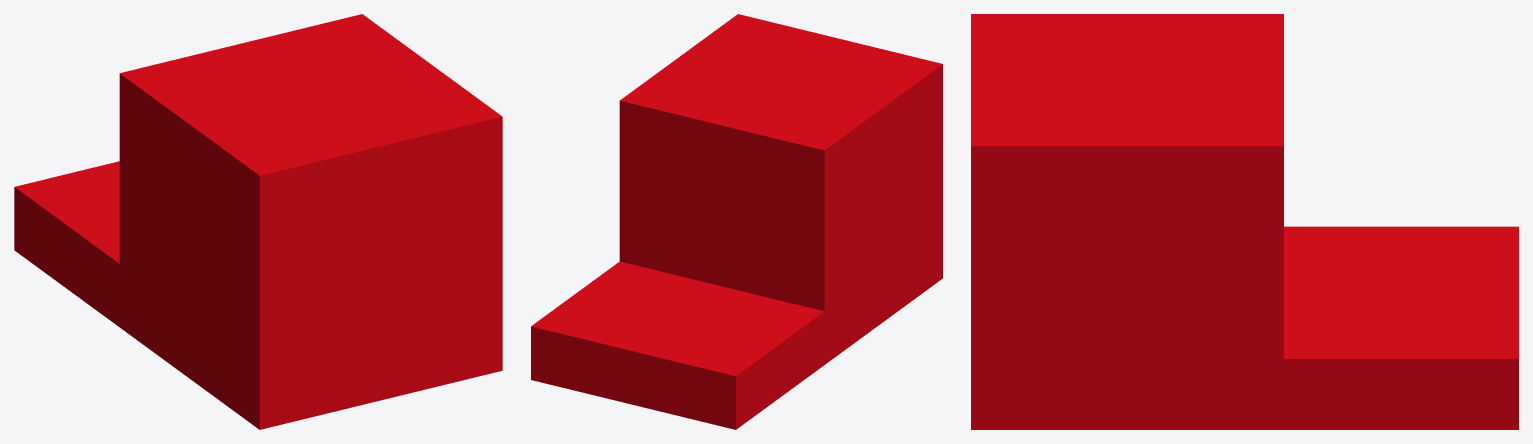
The model's file is MagaKapp.fbx.
3 views of the same model, side by side, from view 1: azimuth 30°, elevation 25°; view 2: azimuth 150°, elevation 25°; view 3: azimuth 270°, elevation 25° (orthographic). The views are drawn at different scales.
Parts seen in each view (by area): view 1: Cube; view 2: Cube; view 3: Cube.
Boxes of the visible parts, x1,y1,x2,y2 form: Cube: (14,14,502,429); Cube: (531,14,942,429); Cube: (971,14,1518,429).
Bounding box in the file's own units: 400 × 400 × 700.
